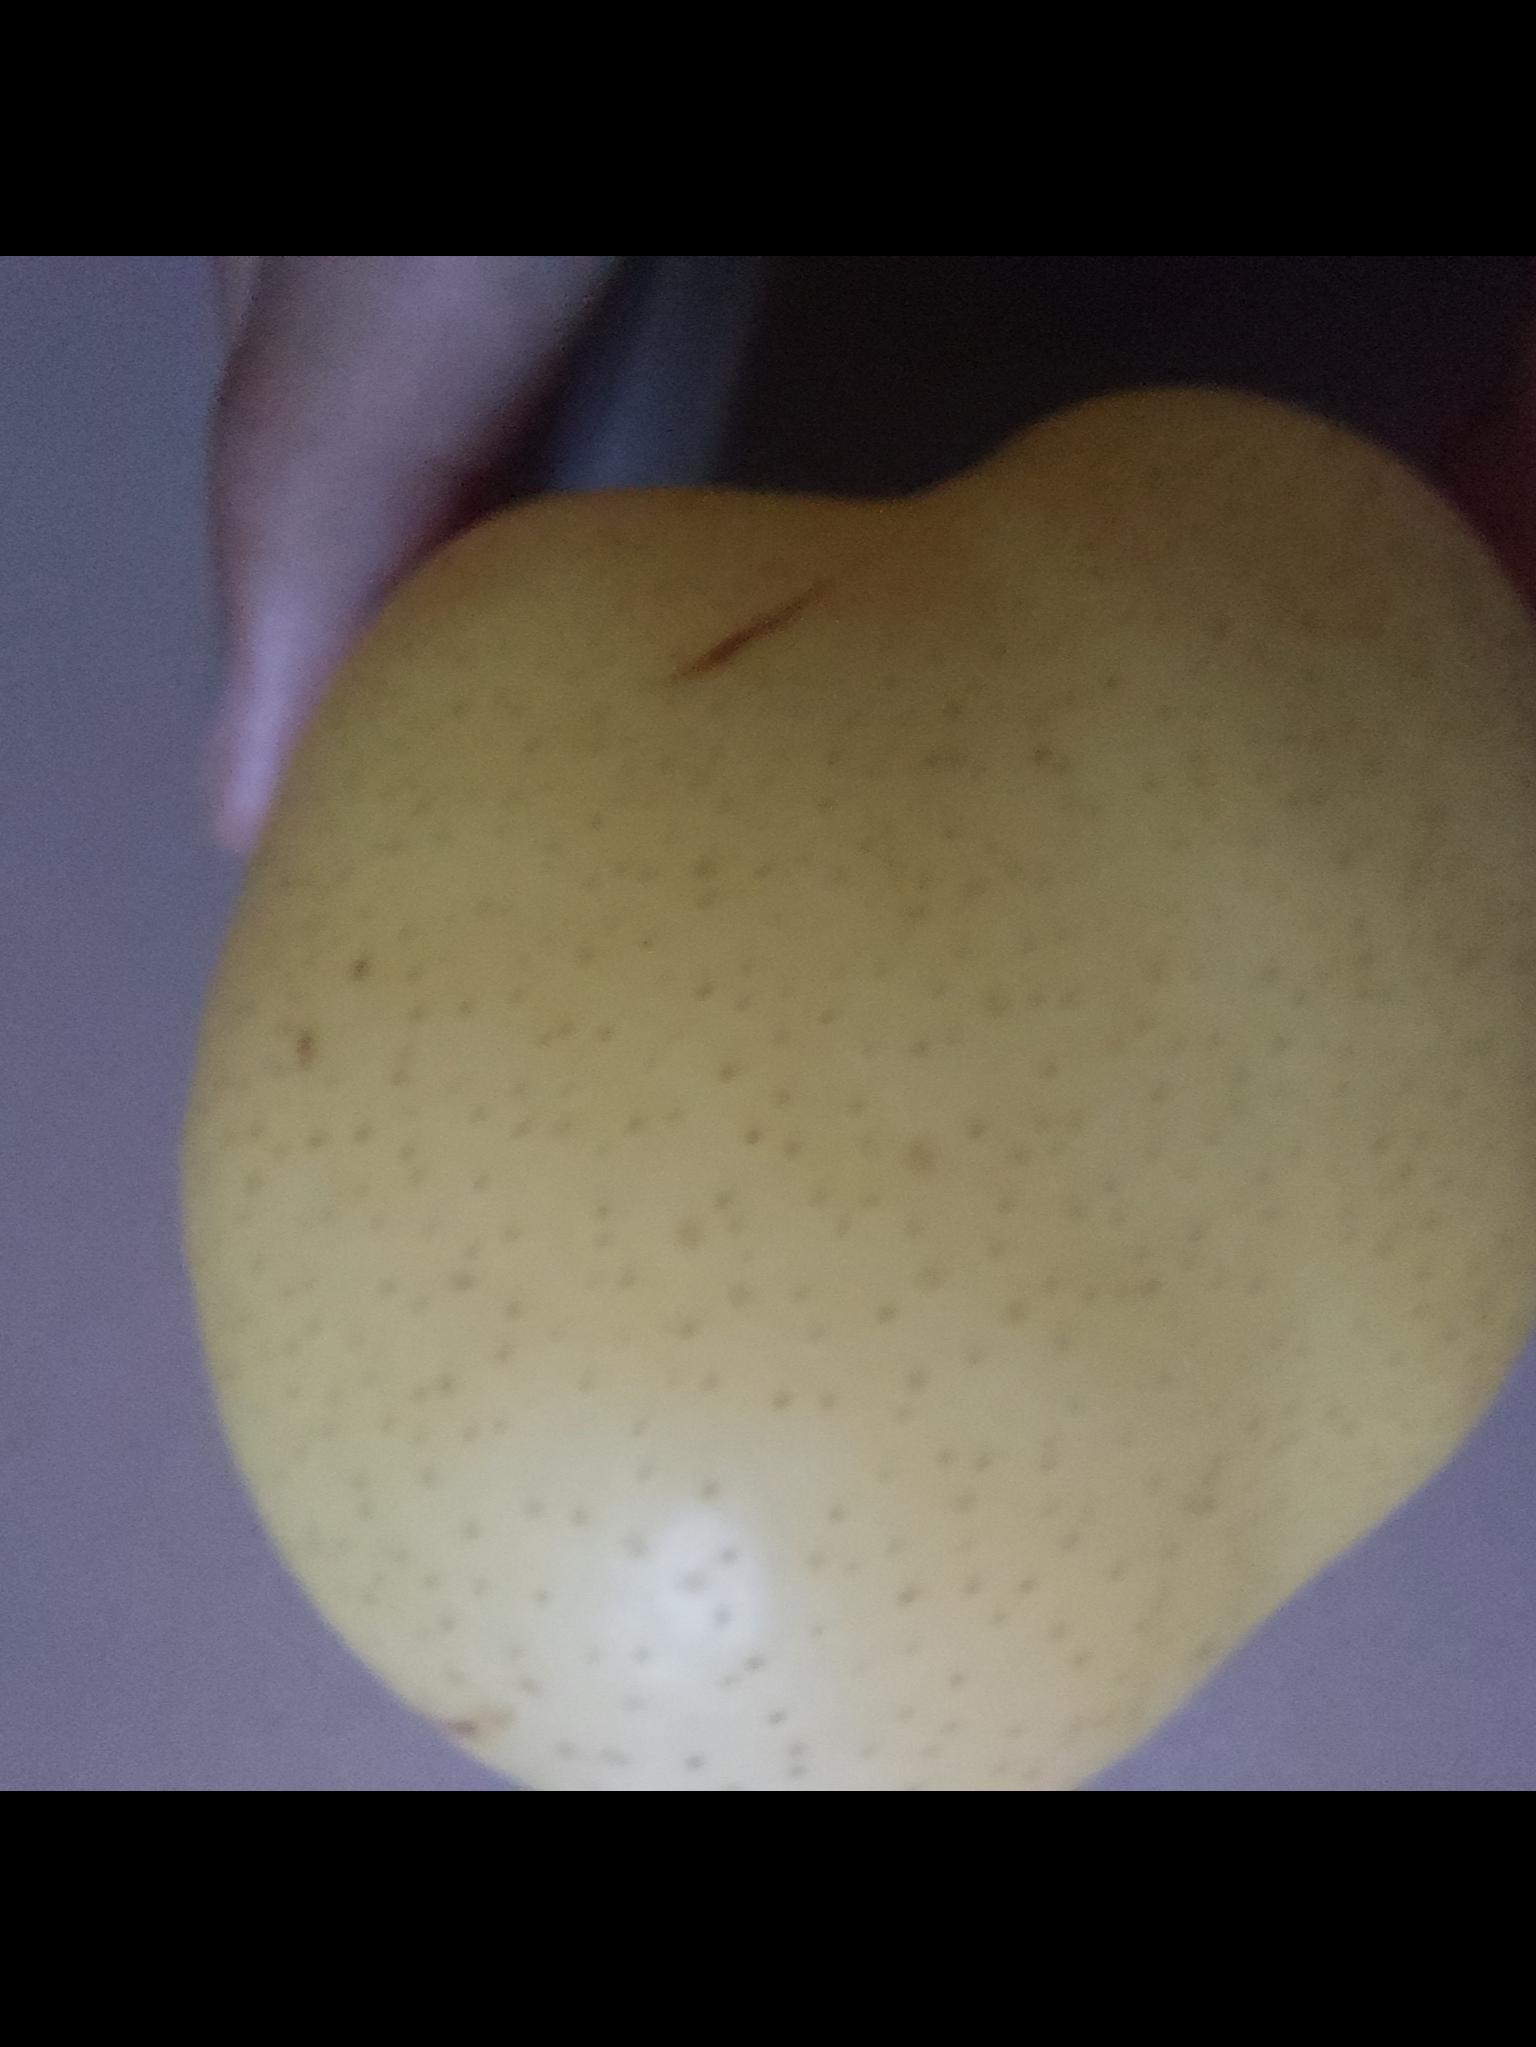Good Pear: (174, 387, 1536, 1791)
